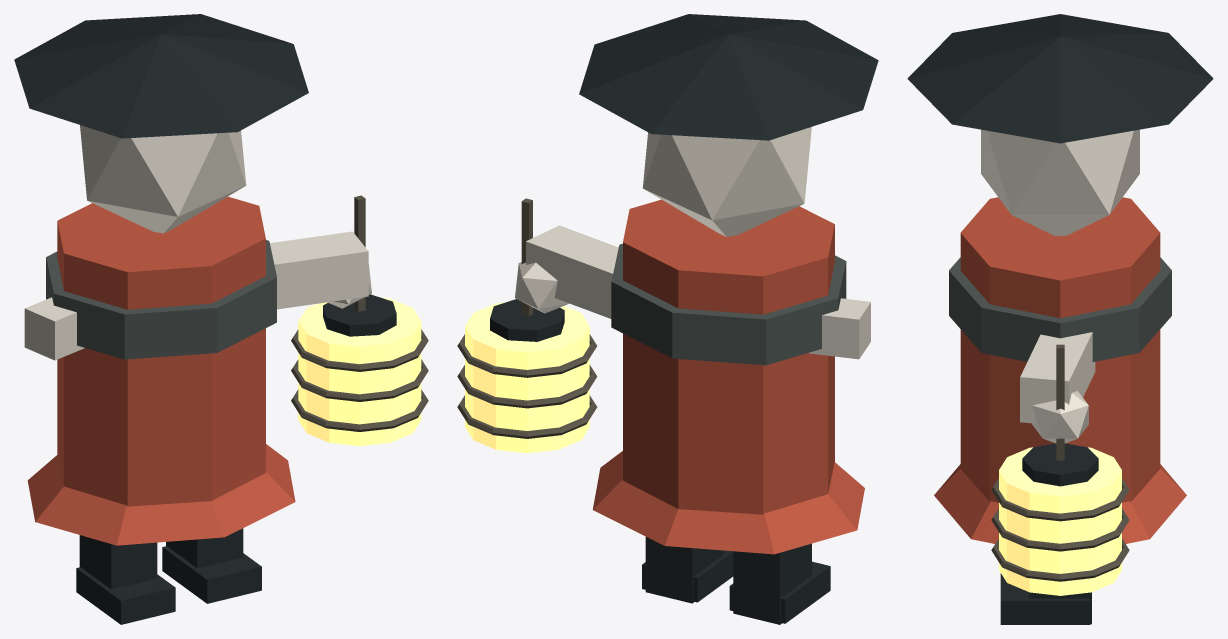
Rendered from Visitor.glb.
The picture shows the model from 3 angles, left to right: view 1: azimuth 30°, elevation 25°; view 2: azimuth 150°, elevation 25°; view 3: azimuth 270°, elevation 25°; orthographic projection.
Visible parts, largest first — view 1: Robe, HatKasa, Head, RobeHem, LanternBody, Obi, ArmFront, FootR, FootL, LegL, ArmBack, LanternCapTop (+5 smaller); view 2: Robe, HatKasa, Head, RobeHem, Obi, LanternBody, ArmFront, LegL, LegR, ArmBack, LanternCapTop, Hand (+6 smaller); view 3: Robe, HatKasa, Head, LanternBody, Obi, RobeHem, ArmFront, FootR, LanternCapTop, Hand, LanternRib1, LanternRib2 (+2 smaller).
Part boxes in pixels (box(x1,y1,x2,y2)): Robe: box(57, 196, 265, 506); HatKasa: box(14, 14, 308, 138); Head: box(80, 125, 246, 233); RobeHem: box(27, 444, 295, 545); LanternBody: box(298, 297, 421, 446); Obi: box(46, 240, 276, 359); ArmFront: box(270, 231, 368, 309); FootR: box(162, 546, 261, 603); FootL: box(76, 567, 175, 624); LegL: box(79, 535, 157, 589); ArmBack: box(24, 297, 84, 360); LanternCapTop: box(323, 294, 396, 336); Robe: box(623, 199, 834, 514); HatKasa: box(579, 14, 878, 140); Head: box(643, 127, 811, 236); RobeHem: box(592, 451, 864, 554); Obi: box(611, 243, 846, 365); LanternBody: box(465, 302, 589, 453); ArmFront: box(526, 225, 618, 318); LegL: box(733, 543, 811, 624); LegR: box(645, 537, 724, 603); ArmBack: box(808, 298, 870, 359); LanternCapTop: box(490, 299, 564, 341); Hand: box(515, 262, 568, 313); Robe: box(960, 197, 1160, 502); HatKasa: box(907, 14, 1213, 143); Head: box(981, 129, 1139, 235); LanternBody: box(999, 447, 1121, 595); Obi: box(949, 257, 1171, 361); RobeHem: box(934, 464, 1186, 543); ArmFront: box(1020, 332, 1095, 423); FootR: box(1000, 574, 1090, 624); LanternCapTop: box(1022, 443, 1098, 486); Hand: box(1032, 391, 1088, 443); LanternRib1: box(991, 508, 1129, 551); LanternRib2: box(991, 538, 1129, 581).
Size of the model in its own units: 1.36 by 1.84 by 0.92.
